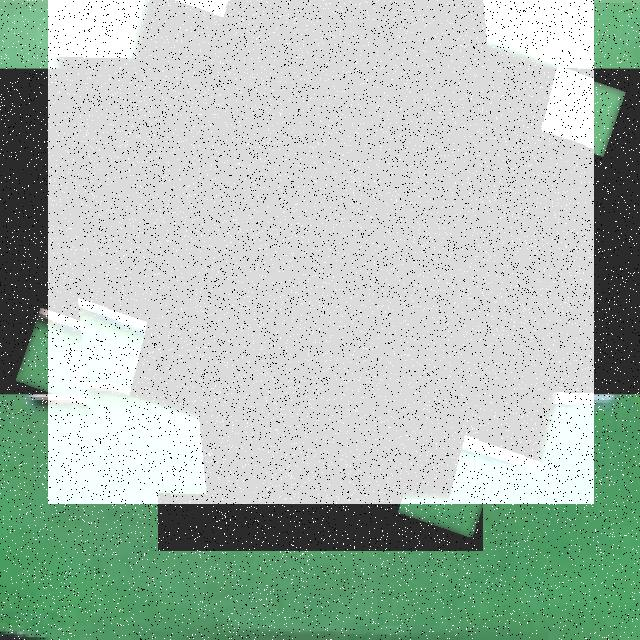dua ribu rupiah: (48, 0, 594, 504)
